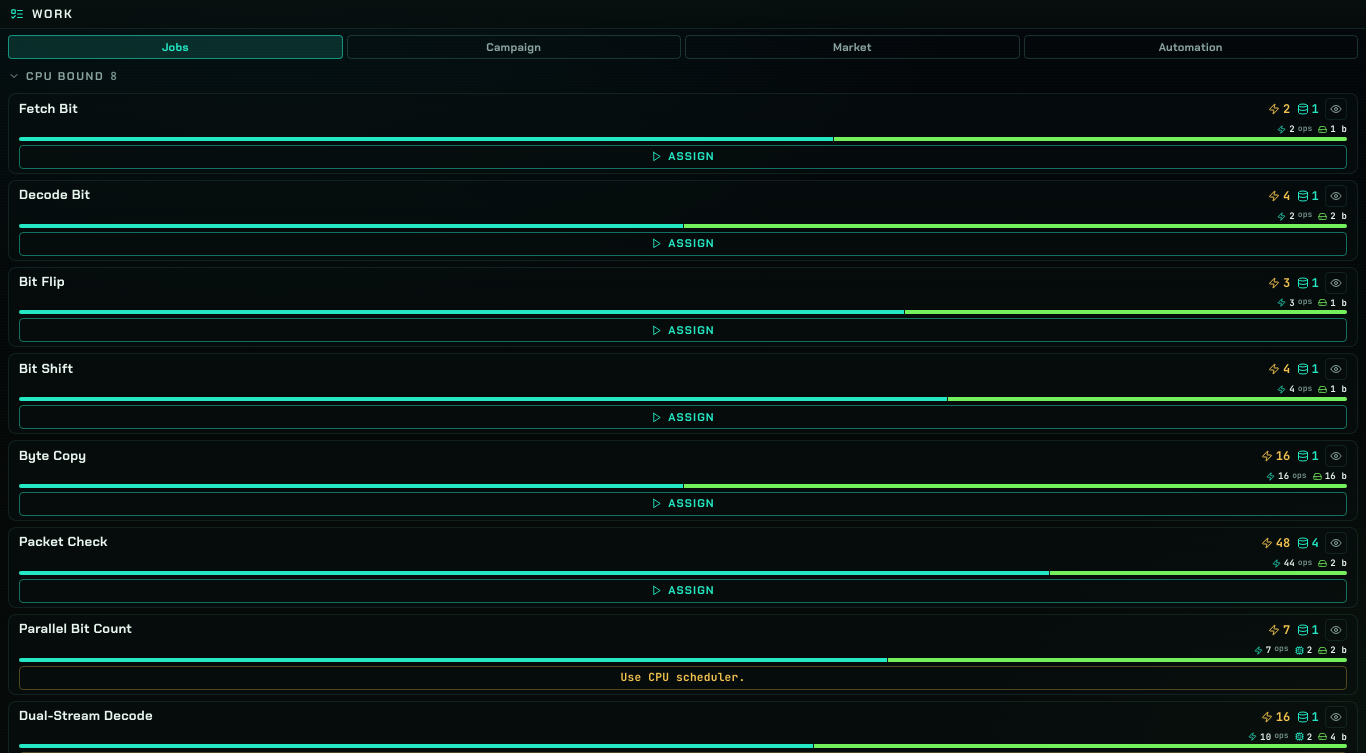
Test: WorkPanel › shows no ETA and the game-owned warning for a legacy active project
Step 1. Click the tab with aria-label "Campaign" → x=514, y=47, box [346,35,681,59]
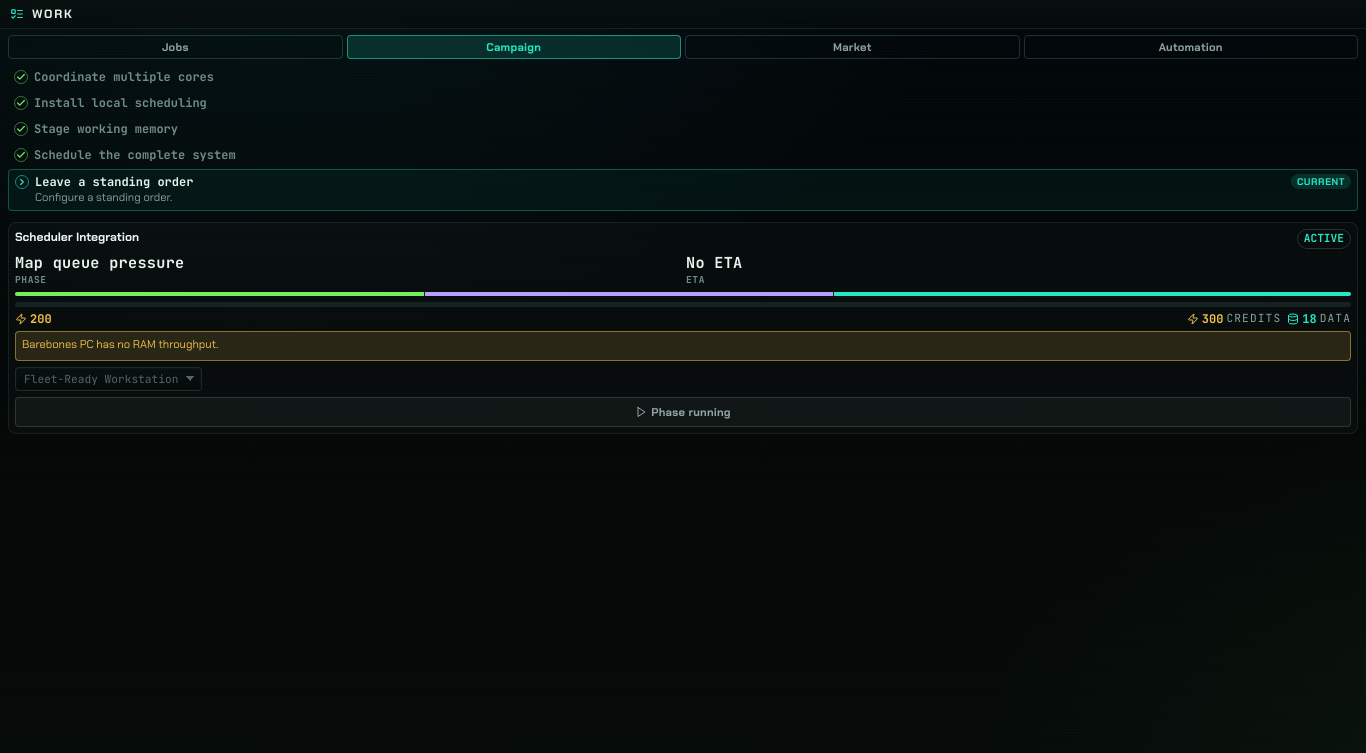
Expected: the text "Active" is shown, [1297,228,1351,248]
Expected: the element with class "work-card" shows "No ETA", [686,252,742,272]
Expected: the element with class "work-card" shows "Barebones PC has no RAM throughput.", [22,338,218,352]
